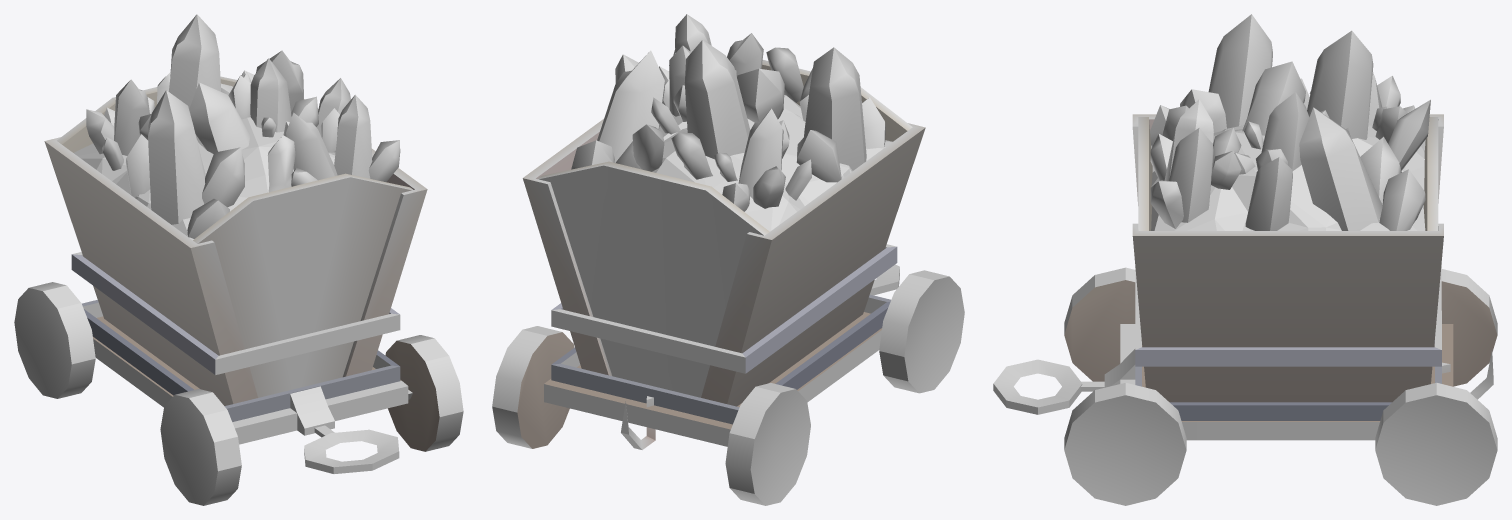
File: kuangche_02.FBX
The picture shows the model from 3 angles, left to right: view 1: azimuth 30°, elevation 25°; view 2: azimuth 150°, elevation 25°; view 3: azimuth 270°, elevation 25°; orthographic projection. The views are drawn at different scales.
Visible parts, largest first — view 1: kuangche_02; view 2: kuangche_02; view 3: kuangche_02.
Part boxes in pixels (x1,y1,x2,y2): kuangche_02: [14, 14, 463, 505]; kuangche_02: [492, 14, 964, 505]; kuangche_02: [993, 14, 1497, 505].
Bounding box in the file's own units: 1.74 × 2.59 × 2.91.
